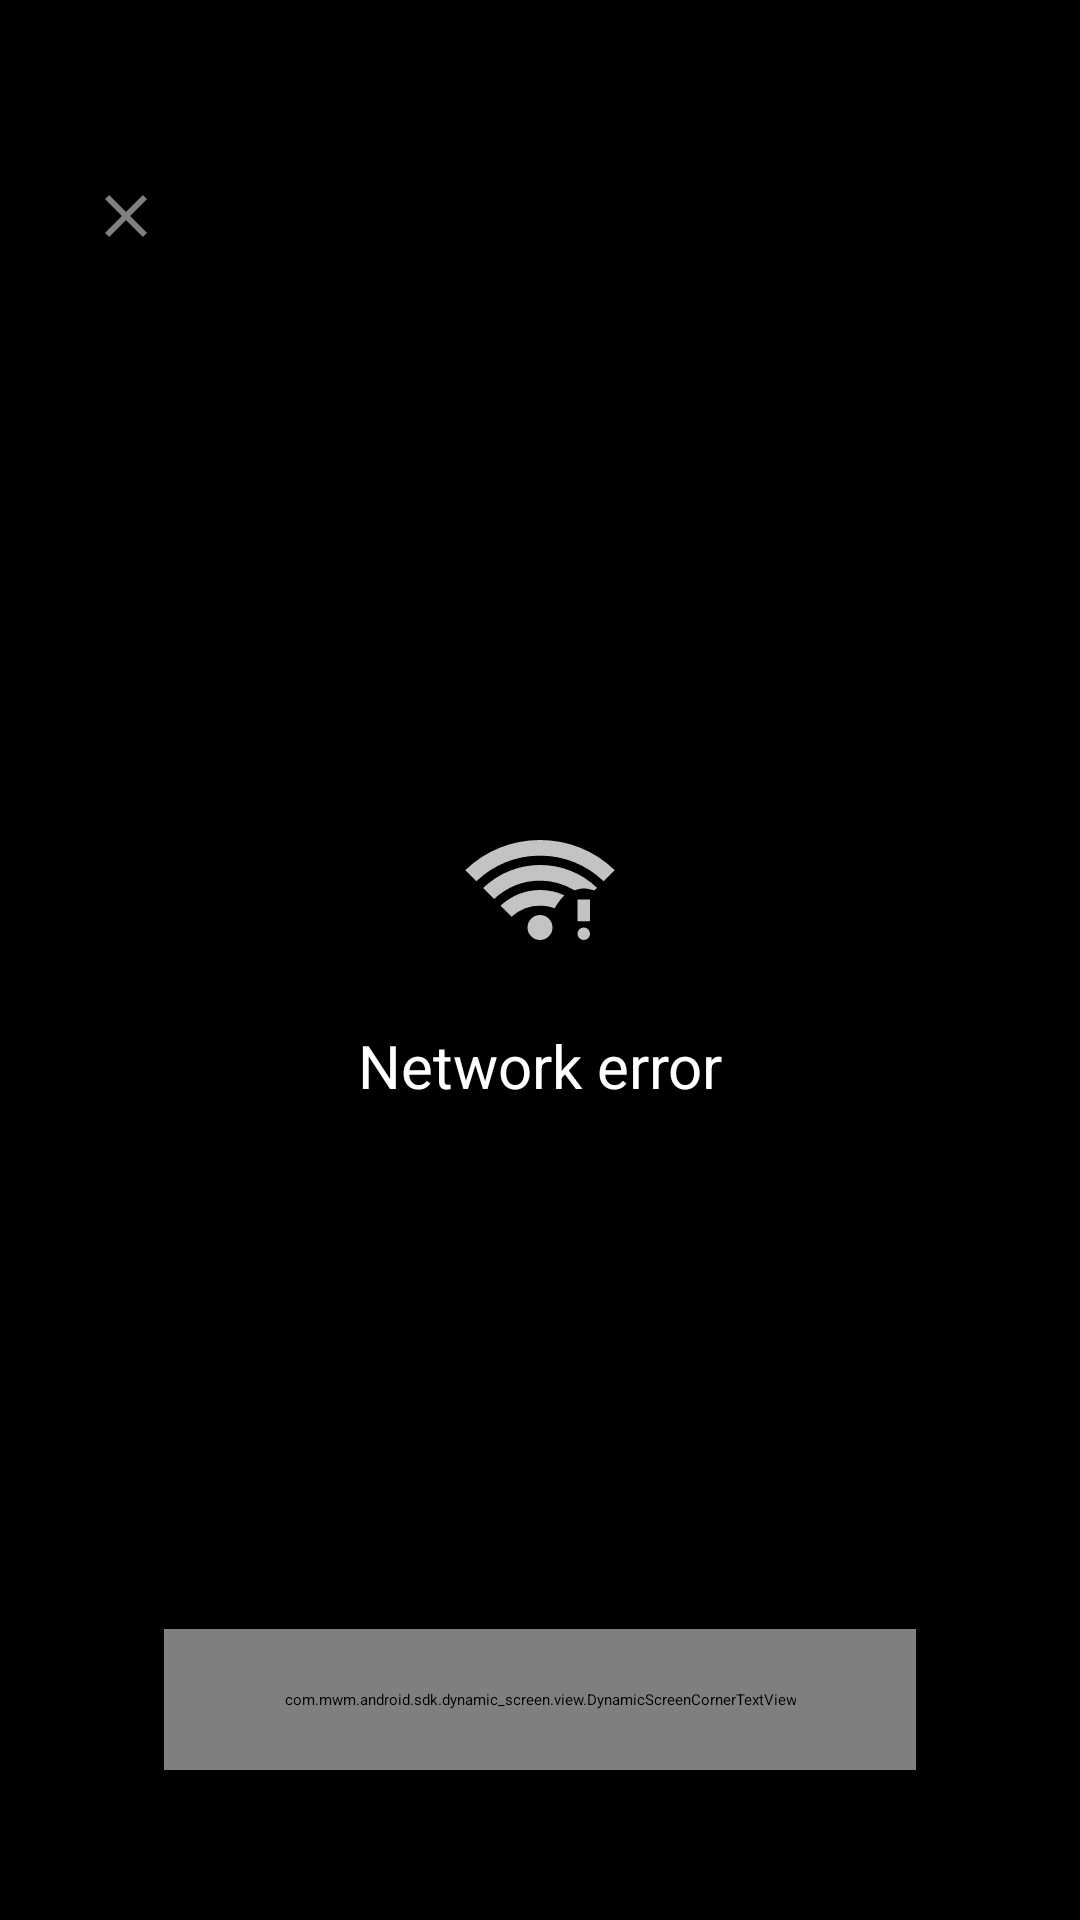

Where icons sit on this 1080*1920 app screen, as Rect(x1, y1, x2, y2):
no internet: Rect(465, 840, 615, 940)
webview close: Rect(105, 195, 147, 237)
